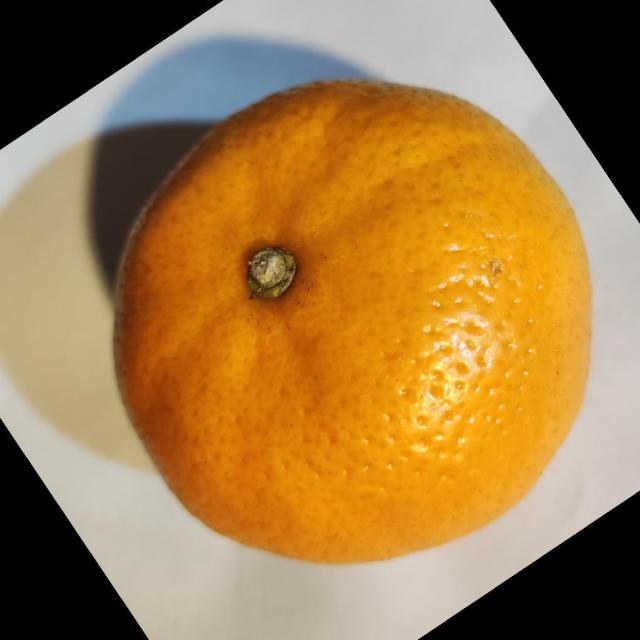agrume: (111, 76, 593, 564)
